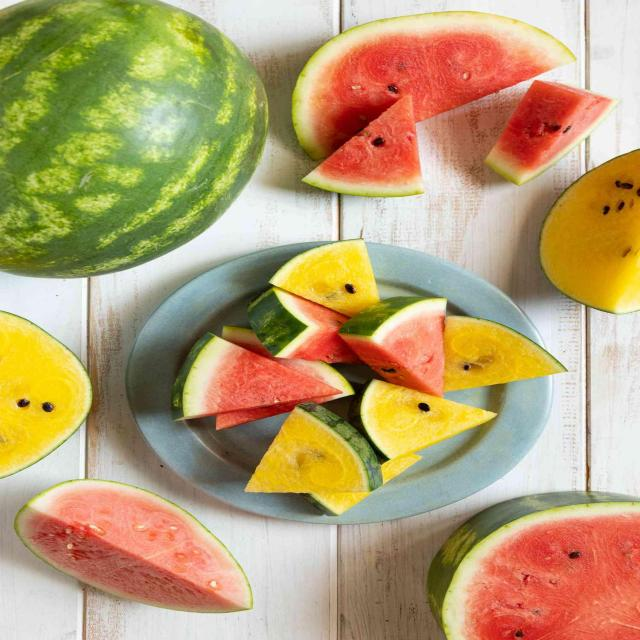watermelon: (0, 0, 274, 286), (282, 5, 578, 157), (17, 474, 278, 617), (422, 481, 639, 640), (539, 140, 640, 320), (0, 299, 96, 487), (158, 325, 345, 418), (242, 401, 392, 499), (351, 372, 505, 463), (476, 77, 606, 178), (301, 96, 424, 202), (338, 295, 452, 396), (269, 238, 390, 318), (440, 314, 559, 394)
